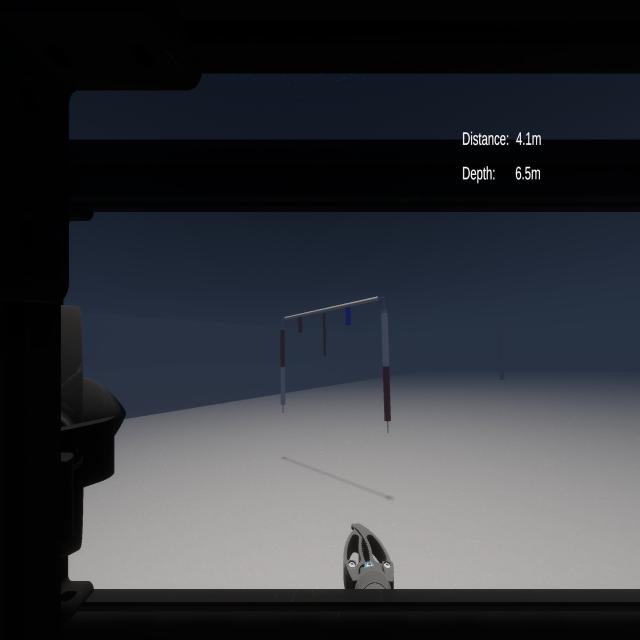Depth: (457, 163, 546, 190)
Distance: (452, 121, 548, 154)
Gate: (261, 284, 409, 444)
